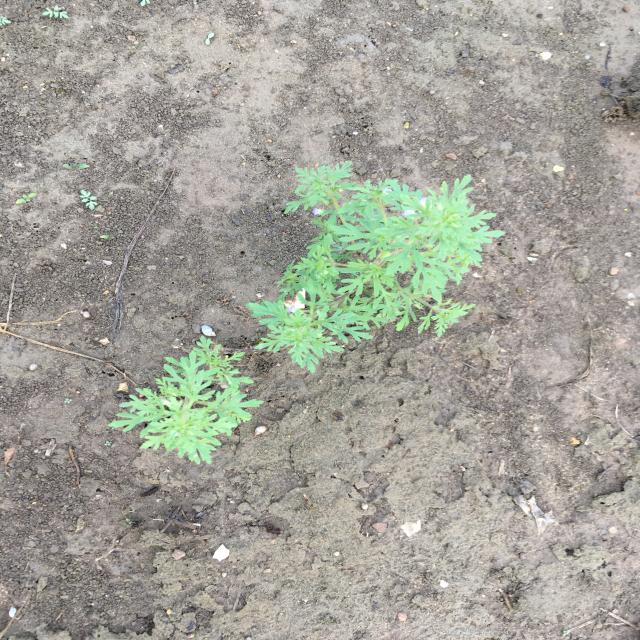Ragweed: (242, 159, 508, 376), (104, 334, 267, 464)
